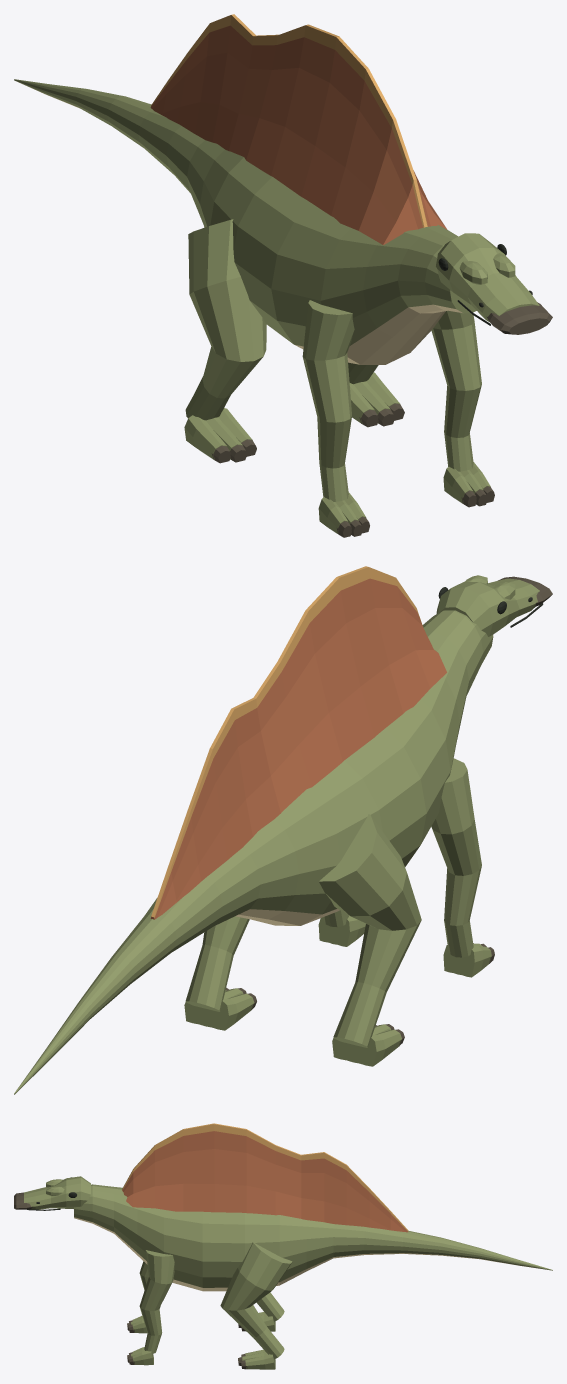
3 views of the same model, one above another, from view 1: azimuth 30°, elevation 25°; view 2: azimuth 150°, elevation 25°; view 3: azimuth 270°, elevation 25° (orthographic). The views are drawn at different scales.
Visible parts, largest first — view 1: continuous-covered-dorsal-sail, neck-trunk-long-tail, paired-forelimbs, paired-hindlimbs, low-elongated-beaked-head, broad-closed-keratin-bill; view 2: continuous-covered-dorsal-sail, neck-trunk-long-tail, paired-hindlimbs, paired-forelimbs, low-elongated-beaked-head; view 3: continuous-covered-dorsal-sail, neck-trunk-long-tail, paired-hindlimbs, paired-forelimbs, low-elongated-beaked-head.
Part boxes in pixels (x1=…): continuous-covered-dorsal-sail: x1=150, y1=14, x2=446, y2=244; neck-trunk-long-tail: x1=14, y1=79, x2=476, y2=364; paired-forelimbs: x1=302, y1=300, x2=494, y2=537; paired-hindlimbs: x1=184, y1=219, x2=404, y2=463; low-elongated-beaked-head: x1=436, y1=233, x2=539, y2=322; broad-closed-keratin-bill: x1=486, y1=302, x2=552, y2=334; continuous-covered-dorsal-sail: x1=150, y1=566, x2=446, y2=919; neck-trunk-long-tail: x1=14, y1=610, x2=493, y2=1094; paired-hindlimbs: x1=184, y1=814, x2=421, y2=1066; paired-forelimbs: x1=318, y1=758, x2=494, y2=977; low-elongated-beaked-head: x1=436, y1=575, x2=539, y2=636; continuous-covered-dorsal-sail: x1=122, y1=1123, x2=408, y2=1232; neck-trunk-long-tail: x1=74, y1=1184, x2=552, y2=1291; paired-hindlimbs: x1=220, y1=1242, x2=292, y2=1369; paired-forelimbs: x1=127, y1=1250, x2=174, y2=1365; low-elongated-beaked-head: x1=24, y1=1176, x2=90, y2=1209.
Bounding box in the file's own units: 1.64 × 3.18 × 7.
